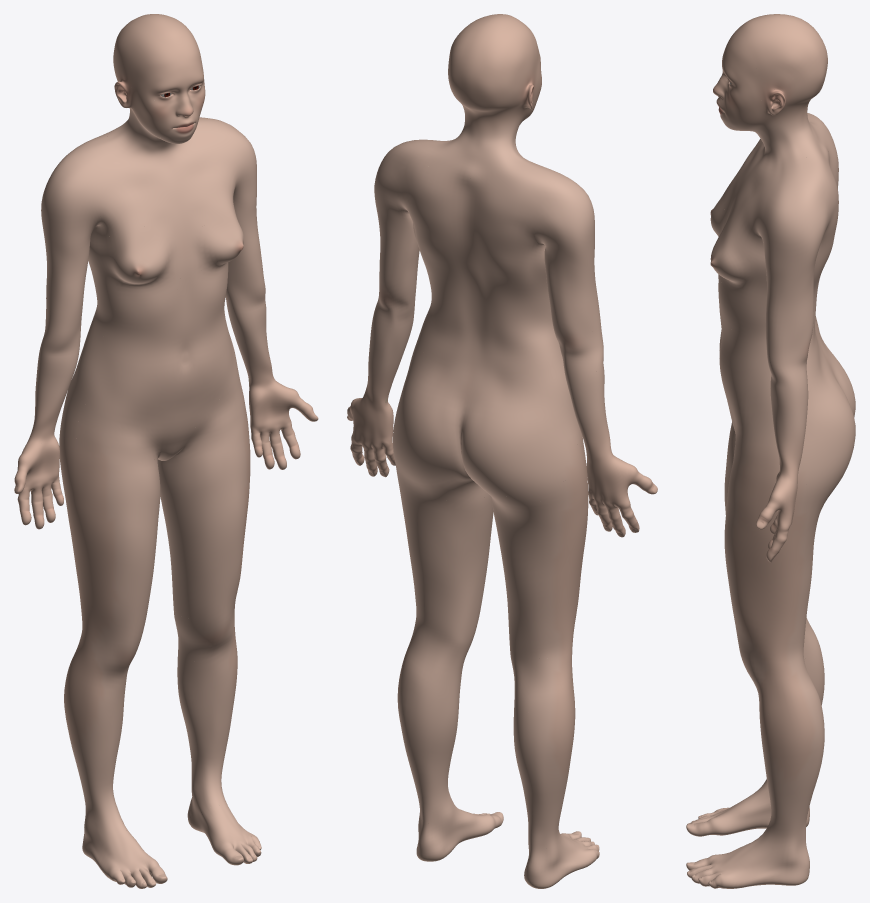
File: female.ligero.glb
3 renders of one model, left to right at view 1: azimuth 30°, elevation 25°; view 2: azimuth 150°, elevation 25°; view 3: azimuth 270°, elevation 25°, orthographic. The views are drawn at different scales.
Visible parts, largest first — view 1: Skin_Thigh_R, Skin_Abdomen, Skin_Thigh_L, Skin_Chest, Skin_Leg_L, Skin_Leg_R, Skin_Shoulder_R, Skin_Breast_R, Skin_Scalp, Skin_Neck, Skin_Face, Skin_Hand_L (+16 smaller); view 2: Skin_Back, Skin_Thigh_R, Skin_Buttock_R, Skin_Thigh_L, Skin_Buttock_L, Skin_Scalp, Skin_Leg_L, Skin_Lumbar, Skin_Leg_R, Skin_Shoulder_R, Skin_Neck, Skin_Arm_R (+14 smaller); view 3: Skin_Thigh_L, Skin_Leg_L, Skin_Shoulder_L, Skin_Scalp, Skin_Buttock_L, Skin_Abdomen, Skin_Foot_L, Skin_Arm_L, Skin_Neck, Skin_Chest, Skin_Knee_L, Skin_Forearm_L (+13 smaller).
Boxes of the visible parts, x1,y1,x2,y2 form: Skin_Thigh_R: (59, 395, 168, 649); Skin_Abdomen: (78, 258, 236, 447); Skin_Thigh_L: (160, 362, 250, 625); Skin_Chest: (85, 163, 240, 334); Skin_Leg_L: (177, 649, 237, 809); Skin_Leg_R: (64, 675, 127, 832); Skin_Shoulder_R: (41, 135, 131, 241); Skin_Breast_R: (103, 222, 175, 302); Skin_Scalp: (113, 14, 200, 115); Skin_Neck: (99, 108, 208, 184); Skin_Face: (125, 58, 205, 142); Skin_Hand_L: (249, 382, 318, 469); Skin_Back: (411, 166, 552, 330); Skin_Thigh_R: (491, 421, 588, 658); Skin_Buttock_R: (461, 369, 581, 501); Skin_Thigh_L: (394, 458, 493, 637); Skin_Buttock_L: (393, 342, 471, 482); Skin_Scalp: (448, 14, 537, 119); Skin_Leg_L: (397, 672, 461, 826); Skin_Lumbar: (417, 301, 564, 381); Skin_Leg_R: (513, 703, 575, 851); Skin_Shoulder_R: (507, 161, 594, 261); Skin_Neck: (428, 108, 530, 185); Skin_Arm_R: (544, 245, 600, 339); Skin_Thigh_L: (724, 411, 841, 664); Skin_Leg_L: (751, 701, 824, 851); Skin_Shoulder_L: (752, 157, 837, 268); Skin_Scalp: (726, 14, 827, 121); Skin_Buttock_L: (769, 348, 855, 496); Skin_Abdomen: (718, 274, 772, 425); Skin_Foot_L: (686, 840, 809, 888); Skin_Arm_L: (765, 257, 815, 348); Skin_Neck: (725, 103, 829, 186); Skin_Chest: (718, 145, 766, 329); Skin_Knee_L: (739, 649, 820, 714); Skin_Forearm_L: (770, 379, 808, 481).
Bounding box in the file's own units: 0.6009 × 1.58 × 0.2882.
9 materials, 8 textured.
